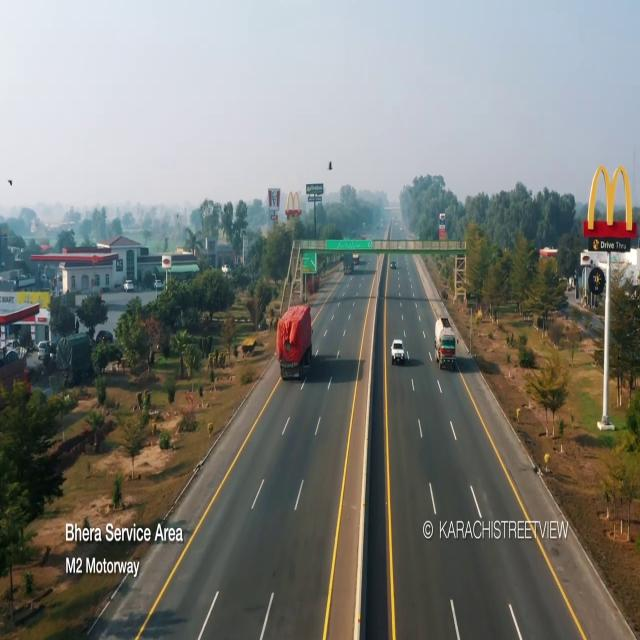car: (392, 339, 408, 363)
truck: (275, 298, 320, 396), (430, 315, 460, 373), (340, 247, 360, 283)
